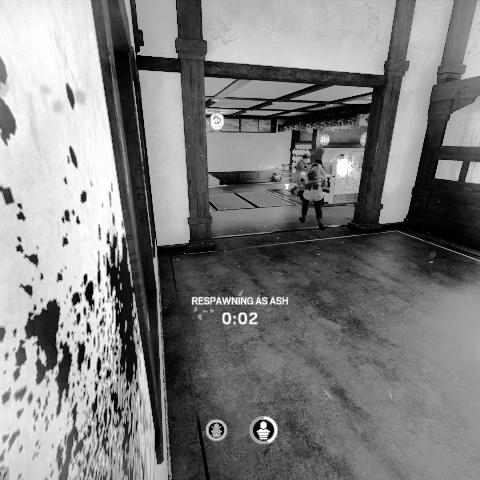Character: (298, 159, 334, 231), (290, 153, 312, 196)
Head: (301, 152, 309, 162), (315, 159, 323, 168)
